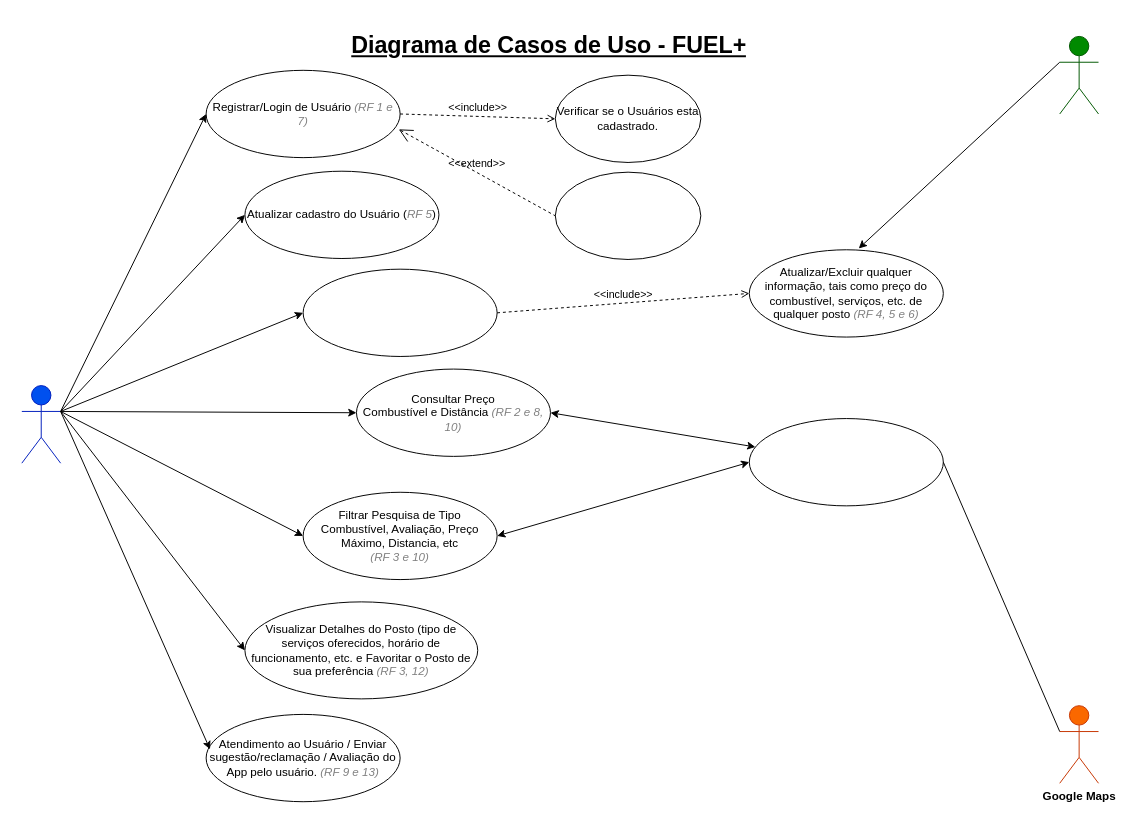
Some shapes in this 1136 by 820 pixel diagram are drawn without their labels. Here are the shapes that lost their labels. From the top down, the centre of each, then its label:
At point (1079, 74): "Administrador do App".
At point (627, 215): "Exibir mensagem de usuário já cadastrado".
At point (399, 312): "Uusário Envia foto do preço do combustível para atualização. (RF 11)".
At point (41, 424): "Usuários".
At point (845, 462): "Mapear Postos".
